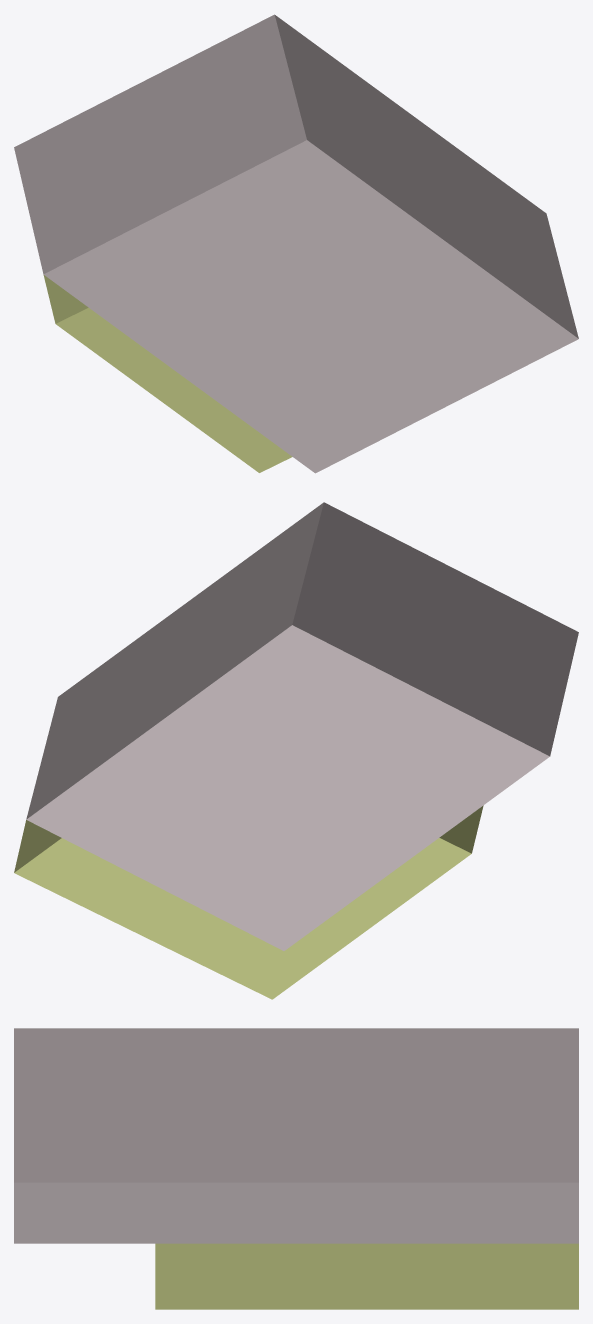
3 views of the same model, one above another, from view 1: azimuth 30°, elevation 25°; view 2: azimuth 150°, elevation 25°; view 3: azimuth 270°, elevation 25° (orthographic). The views are drawn at different scales.
Parts seen in each view (by area): view 1: 0_1_3_2_2_2_0_1_2_2_3; view 2: 0_1_3_2_2_2_0_1_2_2_3; view 3: 0_1_3_2_2_2_0_1_2_2_3.
Part boxes in pixels (left/top/right/bottom): 0_1_3_2_2_2_0_1_2_2_3: left=14, top=14, right=578, bottom=473; 0_1_3_2_2_2_0_1_2_2_3: left=14, top=502, right=578, bottom=999; 0_1_3_2_2_2_0_1_2_2_3: left=14, top=1028, right=578, bottom=1309.
Size of the model in its own units: 7.79 by 6.23 by 12.
